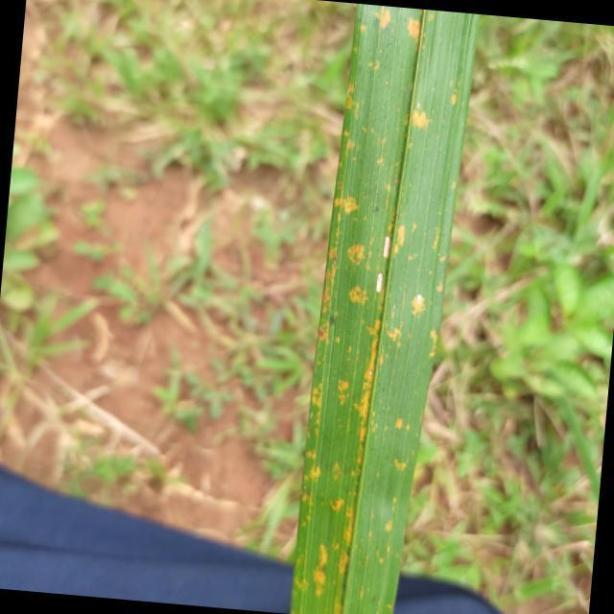Kalium: (291, 0, 480, 614)
